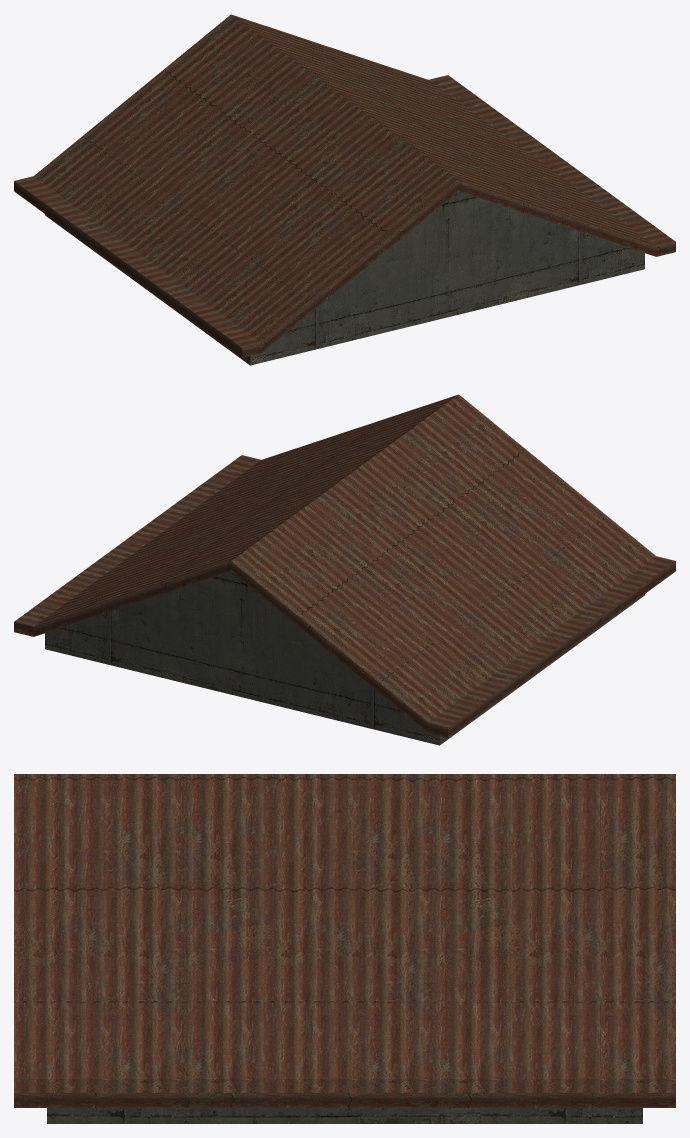
File: roof_mx_1.obj
The picture shows the model from 3 angles, top to bottom: view 1: azimuth 30°, elevation 25°; view 2: azimuth 150°, elevation 25°; view 3: azimuth 270°, elevation 25°; orthographic projection. The views are drawn at different scales.
Visible parts, largest first — view 1: roof_mx_1; view 2: roof_mx_1; view 3: roof_mx_1.
Part boxes in pixels (x1,y1,x2,y2): roof_mx_1: [14, 14, 675, 365]; roof_mx_1: [14, 394, 675, 745]; roof_mx_1: [14, 774, 675, 1123].
Size of the model in its own units: 4.4 by 1.4 by 4.
